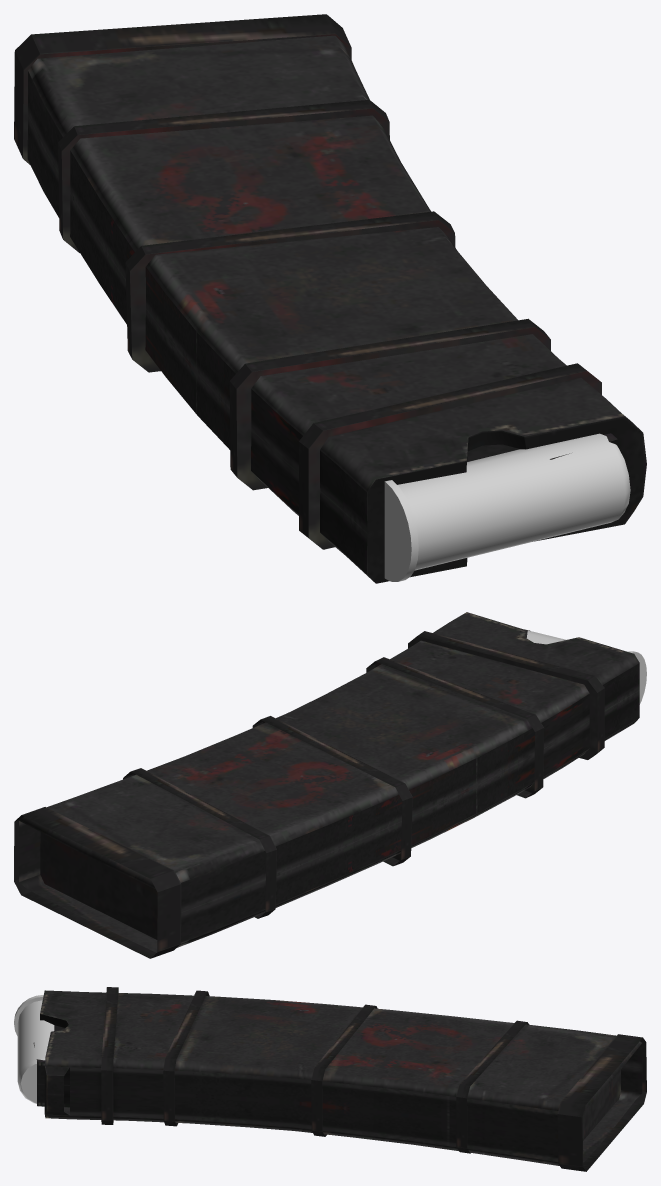
Rendered from t6_attach_mag_saiga_view_LOD0.obj.
The picture shows the model from 3 angles, top to bottom: view 1: azimuth 30°, elevation 25°; view 2: azimuth 150°, elevation 25°; view 3: azimuth 270°, elevation 25°; orthographic projection. The views are drawn at different scales.
Parts seen in each view (by area): view 1: mtl_t6_wpn_shotty_saiga, mtl_t6_wpn_shotty_saiga_camo2, mtl_t6_wpn_shotgun_shells_red; view 2: mtl_t6_wpn_shotty_saiga, mtl_t6_wpn_shotty_saiga_camo2, mtl_t6_wpn_shotgun_shells_red; view 3: mtl_t6_wpn_shotty_saiga, mtl_t6_wpn_shotty_saiga_camo2, mtl_t6_wpn_shotgun_shells_red.
Boxes of the visible parts, x1=… form: mtl_t6_wpn_shotty_saiga: x1=27, y1=35, x2=646, y2=583; mtl_t6_wpn_shotty_saiga_camo2: x1=14, y1=14, x2=601, y2=549; mtl_t6_wpn_shotgun_shells_red: x1=384, y1=433, x2=630, y2=581; mtl_t6_wpn_shotty_saiga: x1=18, y1=612, x2=639, y2=952; mtl_t6_wpn_shotty_saiga_camo2: x1=14, y1=631, x2=604, y2=958; mtl_t6_wpn_shotgun_shells_red: x1=526, y1=630, x2=646, y2=704; mtl_t6_wpn_shotty_saiga: x1=33, y1=990, x2=642, y2=1165; mtl_t6_wpn_shotty_saiga_camo2: x1=101, y1=987, x2=646, y2=1171; mtl_t6_wpn_shotgun_shells_red: x1=14, y1=995, x2=54, y2=1103.
Size of the model in its own units: 12.24 by 3.26 by 26.12.
